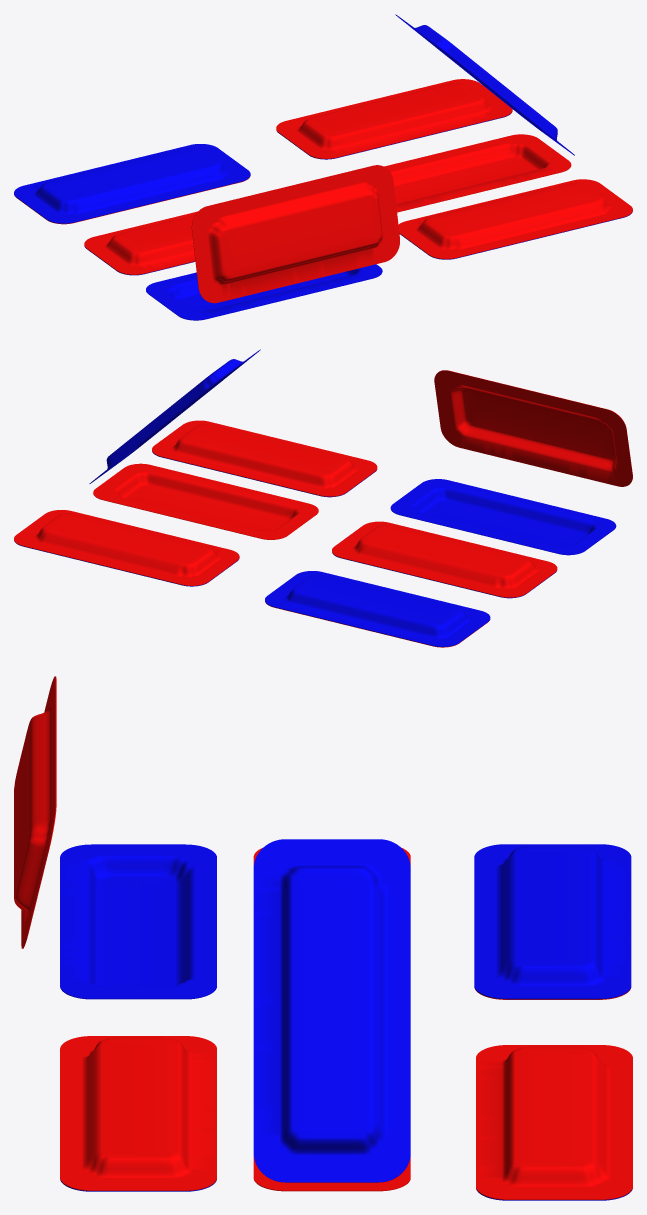
File: mono_magnetic.glb
3 views of the same model, one above another, from view 1: azimuth 30°, elevation 25°; view 2: azimuth 150°, elevation 25°; view 3: azimuth 270°, elevation 25° (orthographic). The views are drawn at different scales.
Parts seen in each view (by area): view 1: N (×5), S (×3); view 2: N (×5), S (×3); view 3: S (×3), N (×4).
Boxes of the visible parts, x1,y1,x2,y2 form: N (×5): (84,79,632,303); S (×3): (14,14,574,320); N (×5): (14,370,632,597); S (×3): (89,349,616,646); S (×3): (60,839,631,1182); N (×4): (14,676,632,1199).
Size of the model in its own units: 0.53 by 0.1813 by 0.39.
